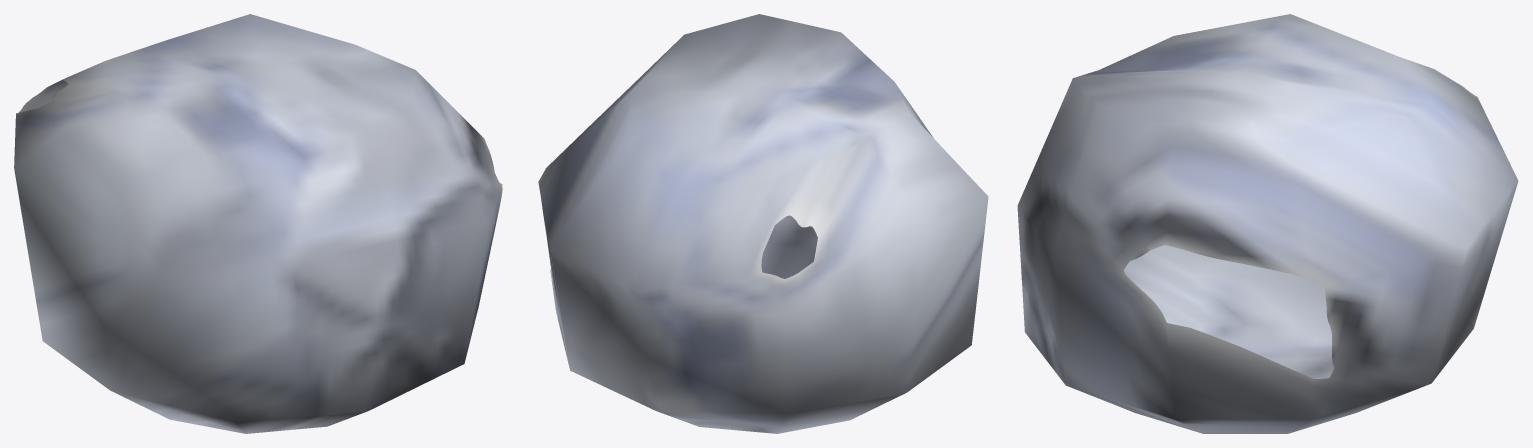
The model's file is crumpled_paper_1.FBX.
3 views of the same model, side by side, from view 1: azimuth 30°, elevation 25°; view 2: azimuth 150°, elevation 25°; view 3: azimuth 270°, elevation 25° (orthographic). The views are drawn at different scales.
Parts seen in each view (by area): view 1: crumpled_paper_1; view 2: crumpled_paper_1; view 3: crumpled_paper_1.
Boxes of the visible parts, x1,y1,x2,y2 form: crumpled_paper_1: [14, 14, 502, 433]; crumpled_paper_1: [538, 14, 988, 433]; crumpled_paper_1: [1017, 14, 1518, 433].
Size of the model in its own units: 7.59 by 5.49 by 7.82.
